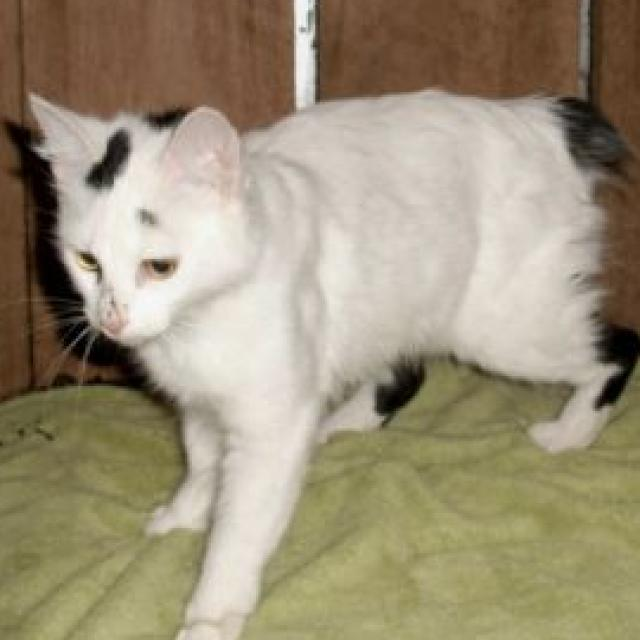American Bobtail: (23, 82, 640, 640)
